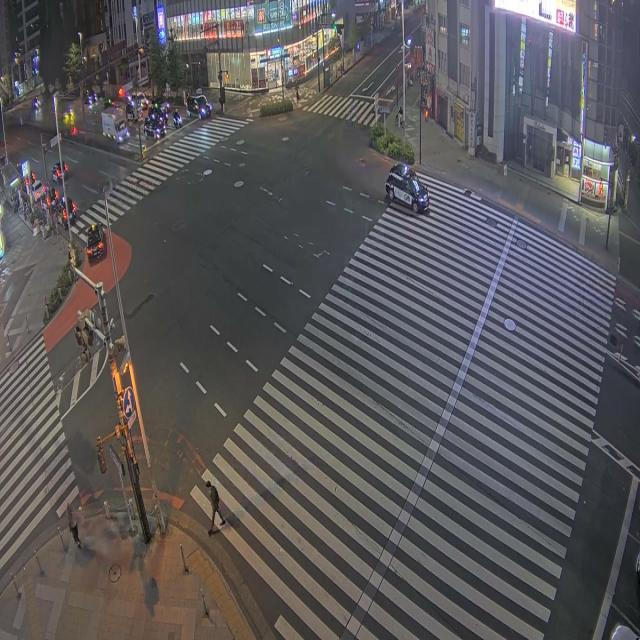car: (386, 164, 428, 213), (86, 224, 105, 262), (56, 197, 77, 225), (187, 96, 212, 119), (144, 117, 166, 139), (611, 624, 639, 639), (148, 104, 168, 124), (127, 92, 149, 109), (126, 100, 142, 121), (32, 180, 46, 202), (52, 163, 67, 182), (83, 90, 97, 108)
motorcycle: (173, 112, 182, 128), (33, 97, 41, 110)
truck: (102, 108, 129, 143)
